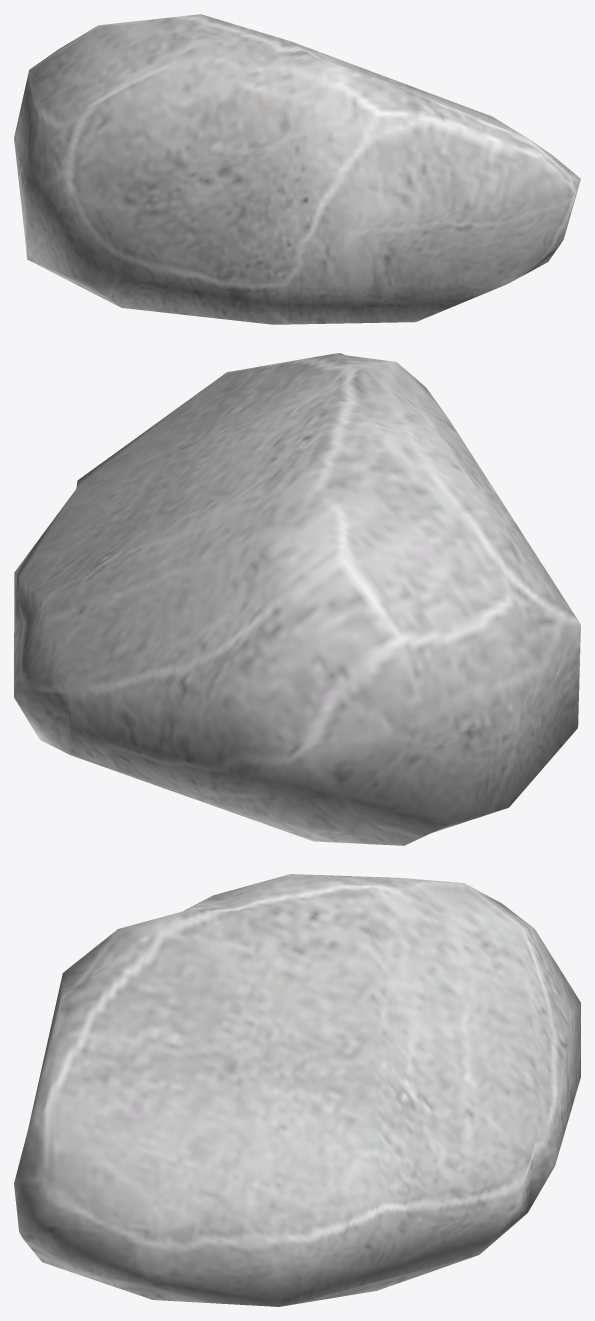
The model's file is campfire_rocks003.fbx.
3 renders of one model, top to bottom at view 1: azimuth 30°, elevation 25°; view 2: azimuth 150°, elevation 25°; view 3: azimuth 270°, elevation 25°, orthographic. The views are drawn at different scales.
Parts seen in each view (by area): view 1: campfire_rocks002; view 2: campfire_rocks002; view 3: campfire_rocks002.
Boxes of the visible parts, x1,y1,x2,y2 form: campfire_rocks002: (14, 14, 580, 324); campfire_rocks002: (14, 353, 580, 845); campfire_rocks002: (14, 874, 580, 1306).
Size of the model in its own units: 58.57 by 32.84 by 53.97.
